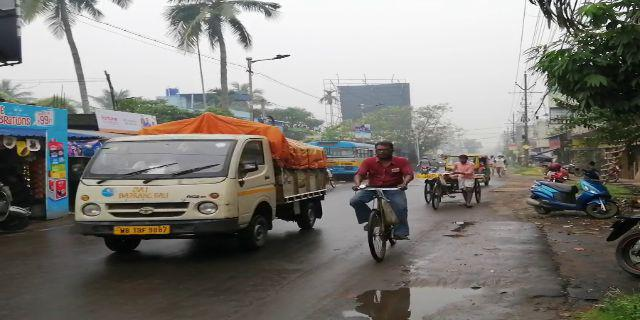Cycle: (347, 142, 400, 257)
Minitruck: (76, 131, 330, 250)
Motorbike: (530, 181, 618, 219)
Van: (422, 156, 481, 209)
